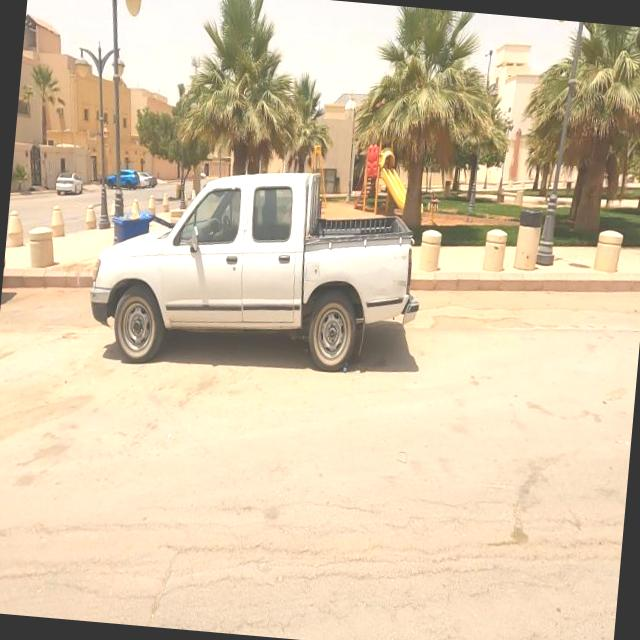debris: (331, 332, 361, 400)
